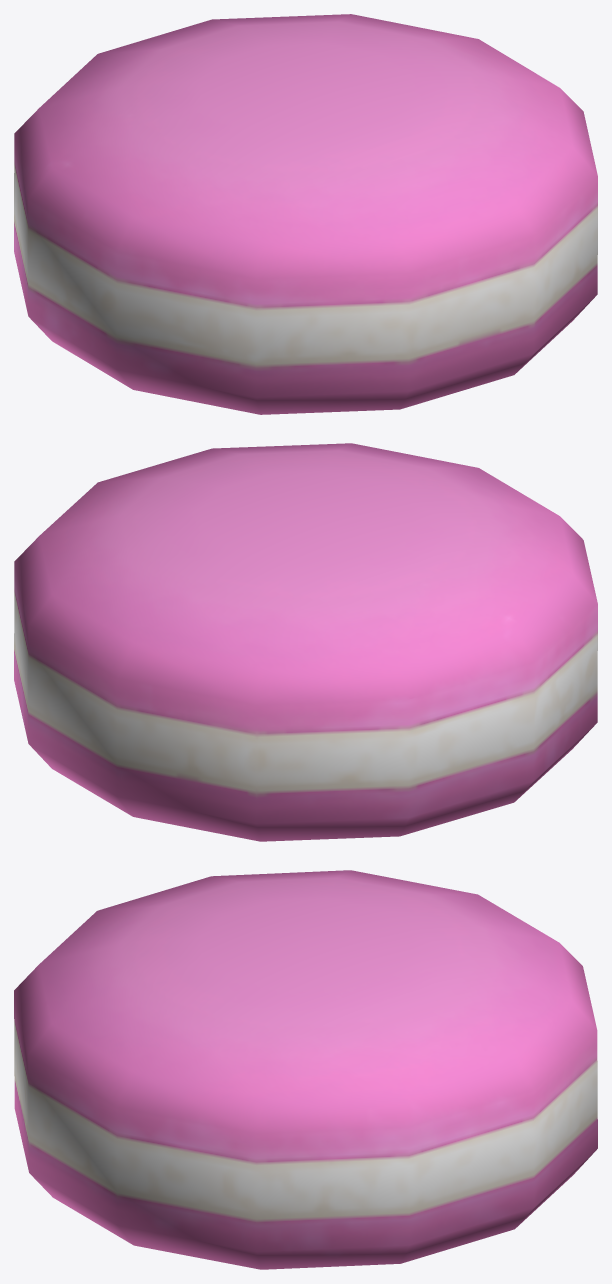
The model's file is BuffetDesserts02_5.FBX.
3 views of the same model, one above another, from view 1: azimuth 30°, elevation 25°; view 2: azimuth 150°, elevation 25°; view 3: azimuth 270°, elevation 25° (orthographic).
Parts seen in each view (by area): view 1: BuffetDesserts02_5; view 2: BuffetDesserts02_5; view 3: BuffetDesserts02_5.
Boxes of the visible parts, left/top/right/bottom form: BuffetDesserts02_5: left=14, top=14, right=597, bottom=414; BuffetDesserts02_5: left=14, top=443, right=597, bottom=841; BuffetDesserts02_5: left=14, top=870, right=597, bottom=1269.
Size of what is drawn, in the model's own units: 0.1043 by 0.0504 by 0.1044.
